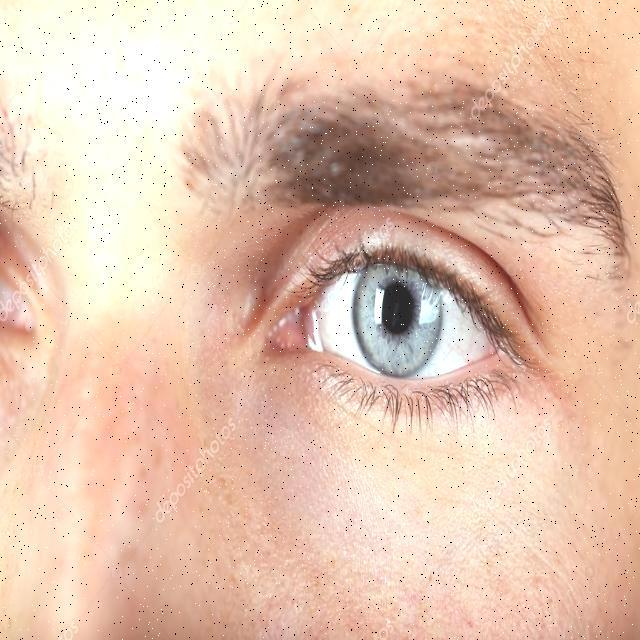Normal: (212, 202, 591, 436)
